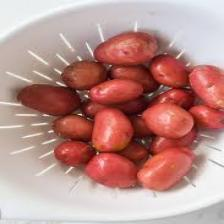Defected potato: (136, 147, 195, 193), (91, 28, 159, 67), (16, 82, 81, 116), (84, 152, 140, 190), (91, 105, 134, 152), (142, 102, 196, 139), (187, 62, 224, 110), (89, 78, 145, 106), (54, 139, 98, 167)
